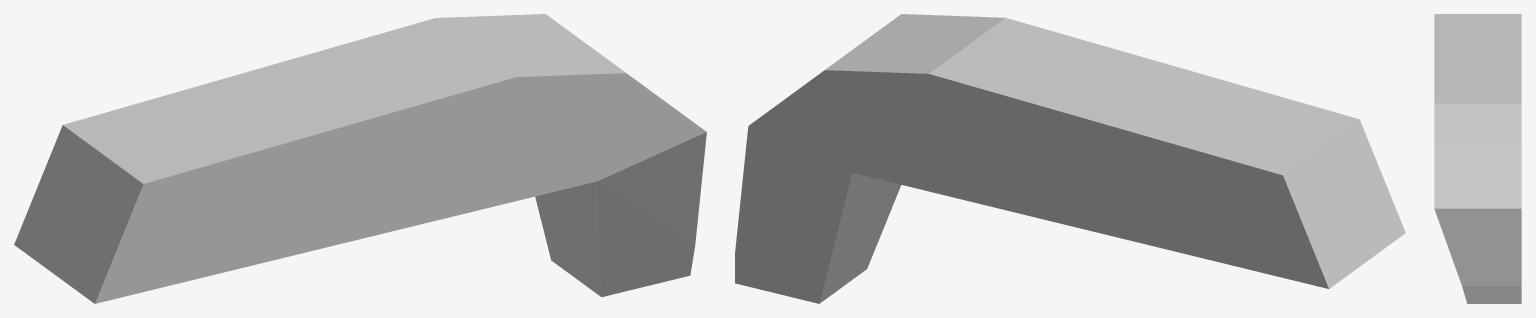
File: Door_Handle_1.glb
3 renders of one model, left to right at view 1: azimuth 30°, elevation 25°; view 2: azimuth 150°, elevation 25°; view 3: azimuth 270°, elevation 25°, orthographic. The views are drawn at different scales.
Visible parts, largest first — view 1: Door Handle 1; view 2: Door Handle 1; view 3: Door Handle 1.
Part boxes in pixels (x1,y1,x2,y2): Door Handle 1: (14,14,706,303); Door Handle 1: (735,14,1405,303); Door Handle 1: (1434,14,1521,303).
Bounding box in the file's own units: 0.2209 × 0.0913 × 0.0494.
1 material, 1 textured.
